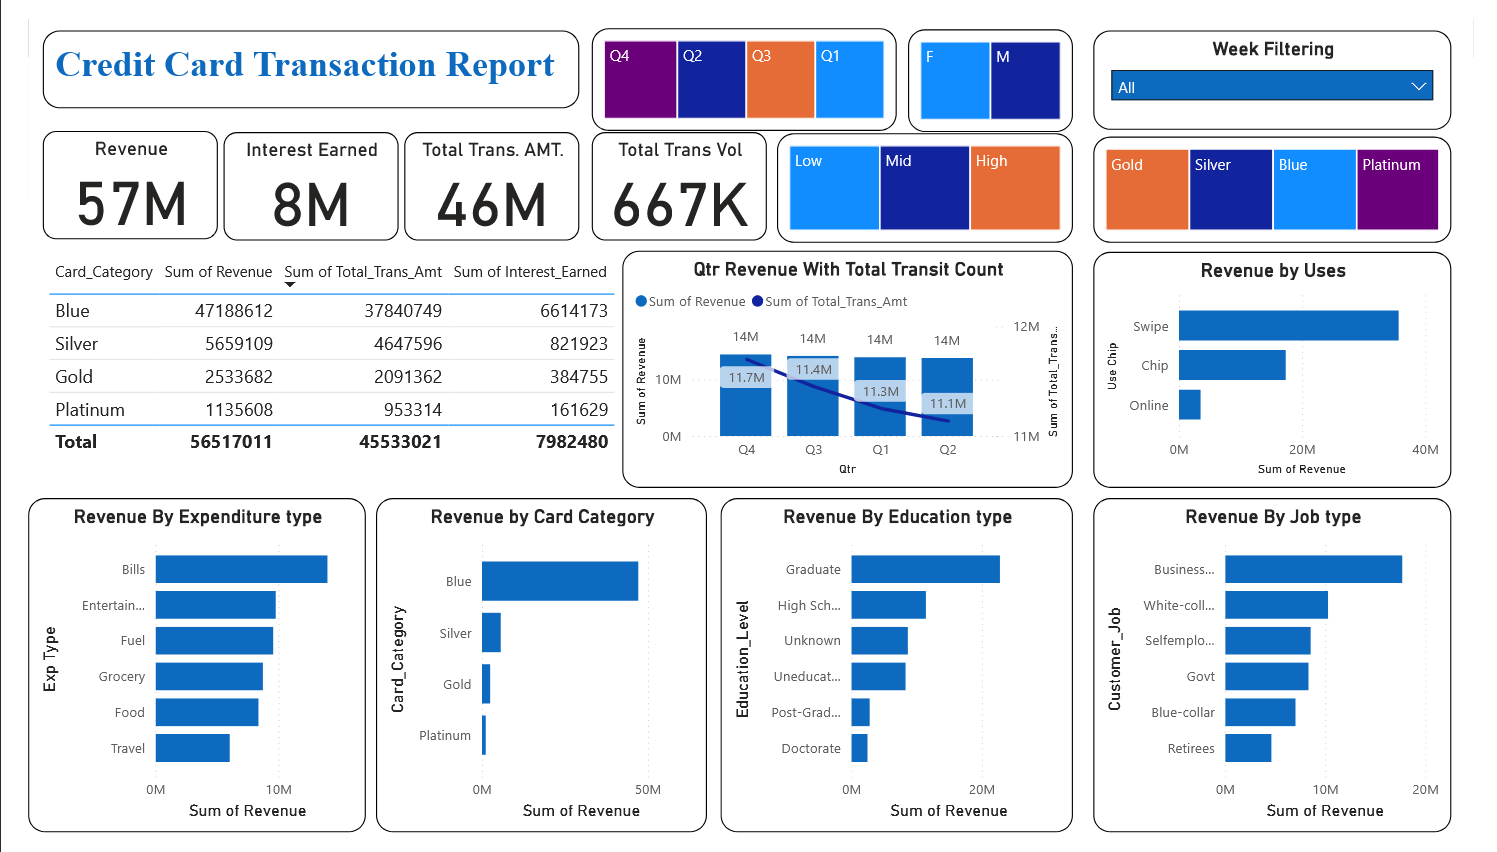

Layout of this report page (visuals, bound fields, positions):
{"tool":"powerbi","page":{"name":"Page 1","canvas":[1280,720],"ordinal":0},"visuals":[{"type":"barChart","title":"Revenue by Card Category","fields":{"Category":["ccdb credit_card.Card_Category"],"Y":["Sum(ccdb credit_card.Revenue)"]},"box":[307.5,423.8,293.8,296.2],"z":0},{"type":"lineClusteredColumnComboChart","title":"Qtr Revenue With Total Transit Count","fields":{"Category":["ccdb credit_card.Qtr"],"Y":["Sum(ccdb credit_card.Revenue)"],"Y2":["Sum(ccdb credit_card.Total_Trans_Amt)"]},"box":[526.2,205,398.8,210],"z":1000},{"type":"barChart","title":"Revenue By Expenditure type","fields":{"Y":["Sum(ccdb credit_card.Revenue)"],"Category":["ccdb credit_card.Exp Type"]},"box":[0,423.8,298.8,296.2],"z":2000},{"type":"barChart","title":"Revenue By Education type","fields":{"Y":["Sum(ccdb credit_card.Revenue)"],"Category":["ccdb customer.Education_Level"]},"box":[612.5,423.8,312.5,296.2],"z":3000},{"type":"barChart","title":"Revenue By Job type","fields":{"Y":["Sum(ccdb credit_card.Revenue)"],"Category":["ccdb customer.Customer_Job"]},"box":[942.5,423.8,317.5,296.2],"z":4000},{"type":"barChart","title":"Revenue by Uses","fields":{"Category":["ccdb credit_card.Use Chip"],"Y":["Sum(ccdb credit_card.Revenue)"]},"box":[942.5,206.2,317.5,208.8],"z":5000},{"type":"tableEx","fields":{"Values":["ccdb credit_card.Card_Category","Sum(ccdb credit_card.Revenue)","Sum(ccdb credit_card.Total_Trans_Amt)","Sum(ccdb credit_card.Interest_Earned)"]},"box":[12.5,206.2,513.8,208.8],"z":6000},{"type":"card","title":"Revenue","fields":{"Values":["Sum(ccdb credit_card.Revenue)"]},"box":[12.5,98.8,155,96.2],"z":7000},{"type":"card","title":"Interest Earned","fields":{"Values":["Sum(ccdb credit_card.Interest_Earned)"]},"box":[172.5,100,155,96.2],"z":8000},{"type":"card","title":"Total Trans. AMT.","fields":{"Values":["Sum(ccdb credit_card.Total_Trans_Amt)"]},"box":[332.5,100,155,96.2],"z":9000},{"type":"card","title":"Total Trans Vol","fields":{"Values":["Sum(ccdb credit_card.Total_Trans_Vol)"]},"box":[498.8,100,155,96.2],"z":10000},{"type":"textbox","box":[12.5,10,475,68.8],"z":11000},{"type":"slicer","title":"Week Filtering","fields":{"Values":["ccdb credit_card.Week_Start_Date"]},"box":[942.5,10,317.5,87.5],"z":12000},{"type":"treemap","fields":{"Group":["ccdb credit_card.Qtr"],"Values":["CountNonNull(ccdb credit_card.Client_num)"]},"box":[498.8,7.5,270,91.2],"z":13000},{"type":"treemap","fields":{"Values":["Avg(ccdb credit_card.Client_num)"],"Group":["ccdb customer.Gender"]},"box":[778.8,8.8,146.2,91.2],"z":14000},{"type":"treemap","fields":{"Values":["Avg(ccdb credit_card.Client_num)"],"Group":["ccdb customer.IncomeGroup"]},"box":[662.5,101.2,262.5,96.2],"z":15000},{"type":"treemap","fields":{"Group":["ccdb credit_card.Card_Category"],"Values":["Avg(ccdb credit_card.Client_num)"]},"box":[942.5,103.8,317.5,93.8],"z":16000}]}

Visuals, with their boxes in screenshot pixels (x1, y1, x2, y2), scaled from the page's 1280x720 canvas onto the 1497x852 screenshot:
"Revenue by Card Category" barChart: 360,501,703,851
"Qtr Revenue With Total Transit Count" lineClusteredColumnComboChart: 615,243,1082,491
"Revenue By Expenditure type" barChart: 0,501,349,851
"Revenue By Education type" barChart: 716,501,1082,851
"Revenue By Job type" barChart: 1102,501,1474,851
"Revenue by Uses" barChart: 1102,244,1474,491
tableEx - ccdb credit_card.Card_Category x Sum(ccdb credit_card.Revenue): 15,244,616,491
"Revenue" card: 15,117,196,231
"Interest Earned" card: 202,118,383,232
"Total Trans. AMT." card: 389,118,570,232
"Total Trans Vol" card: 583,118,765,232
textbox: 15,12,570,93
"Week Filtering" slicer: 1102,12,1474,115
treemap - ccdb credit_card.Qtr x CountNonNull(ccdb credit_card.Client_num): 583,9,899,117
treemap - Avg(ccdb credit_card.Client_num) x ccdb customer.Gender: 911,10,1082,118
treemap - Avg(ccdb credit_card.Client_num) x ccdb customer.IncomeGroup: 775,120,1082,234
treemap - ccdb credit_card.Card_Category x Avg(ccdb credit_card.Client_num): 1102,123,1474,234
